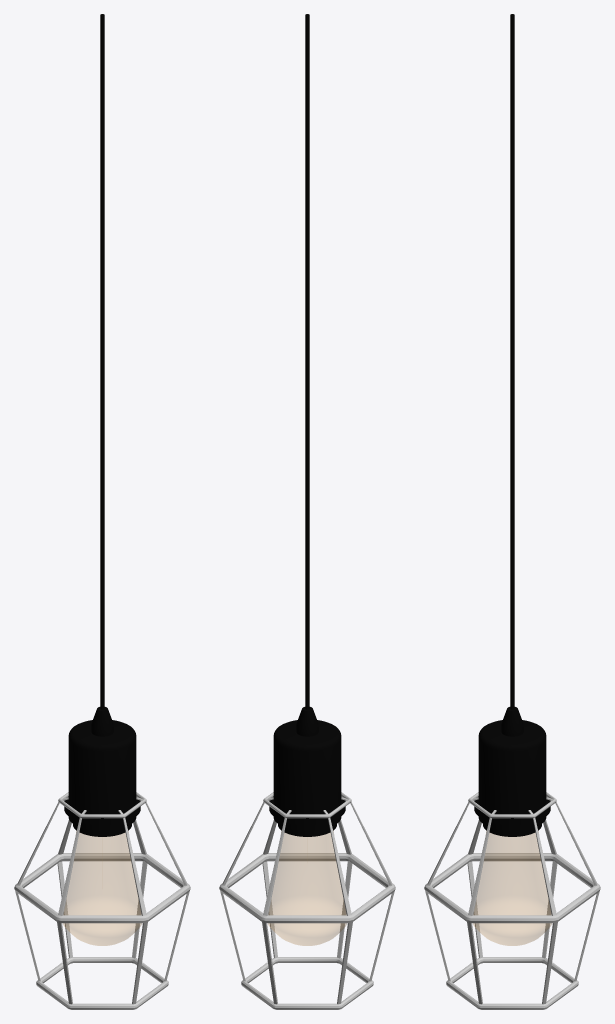
Rendered from Lamp 2.fbx.
3 renders of one model, left to right at view 1: azimuth 30°, elevation 25°; view 2: azimuth 150°, elevation 25°; view 3: azimuth 270°, elevation 25°, orthographic.
Parts seen in each view (by area): view 1: Lamp 2; view 2: Lamp 2; view 3: Lamp 2.
Part boxes in pixels (<box>): Lamp 2: <box>14,14,190,1009</box>; Lamp 2: <box>219,14,395,1009</box>; Lamp 2: <box>424,14,600,1009</box>.
Bounding box in the file's own units: 15.62 × 108 × 17.77.
